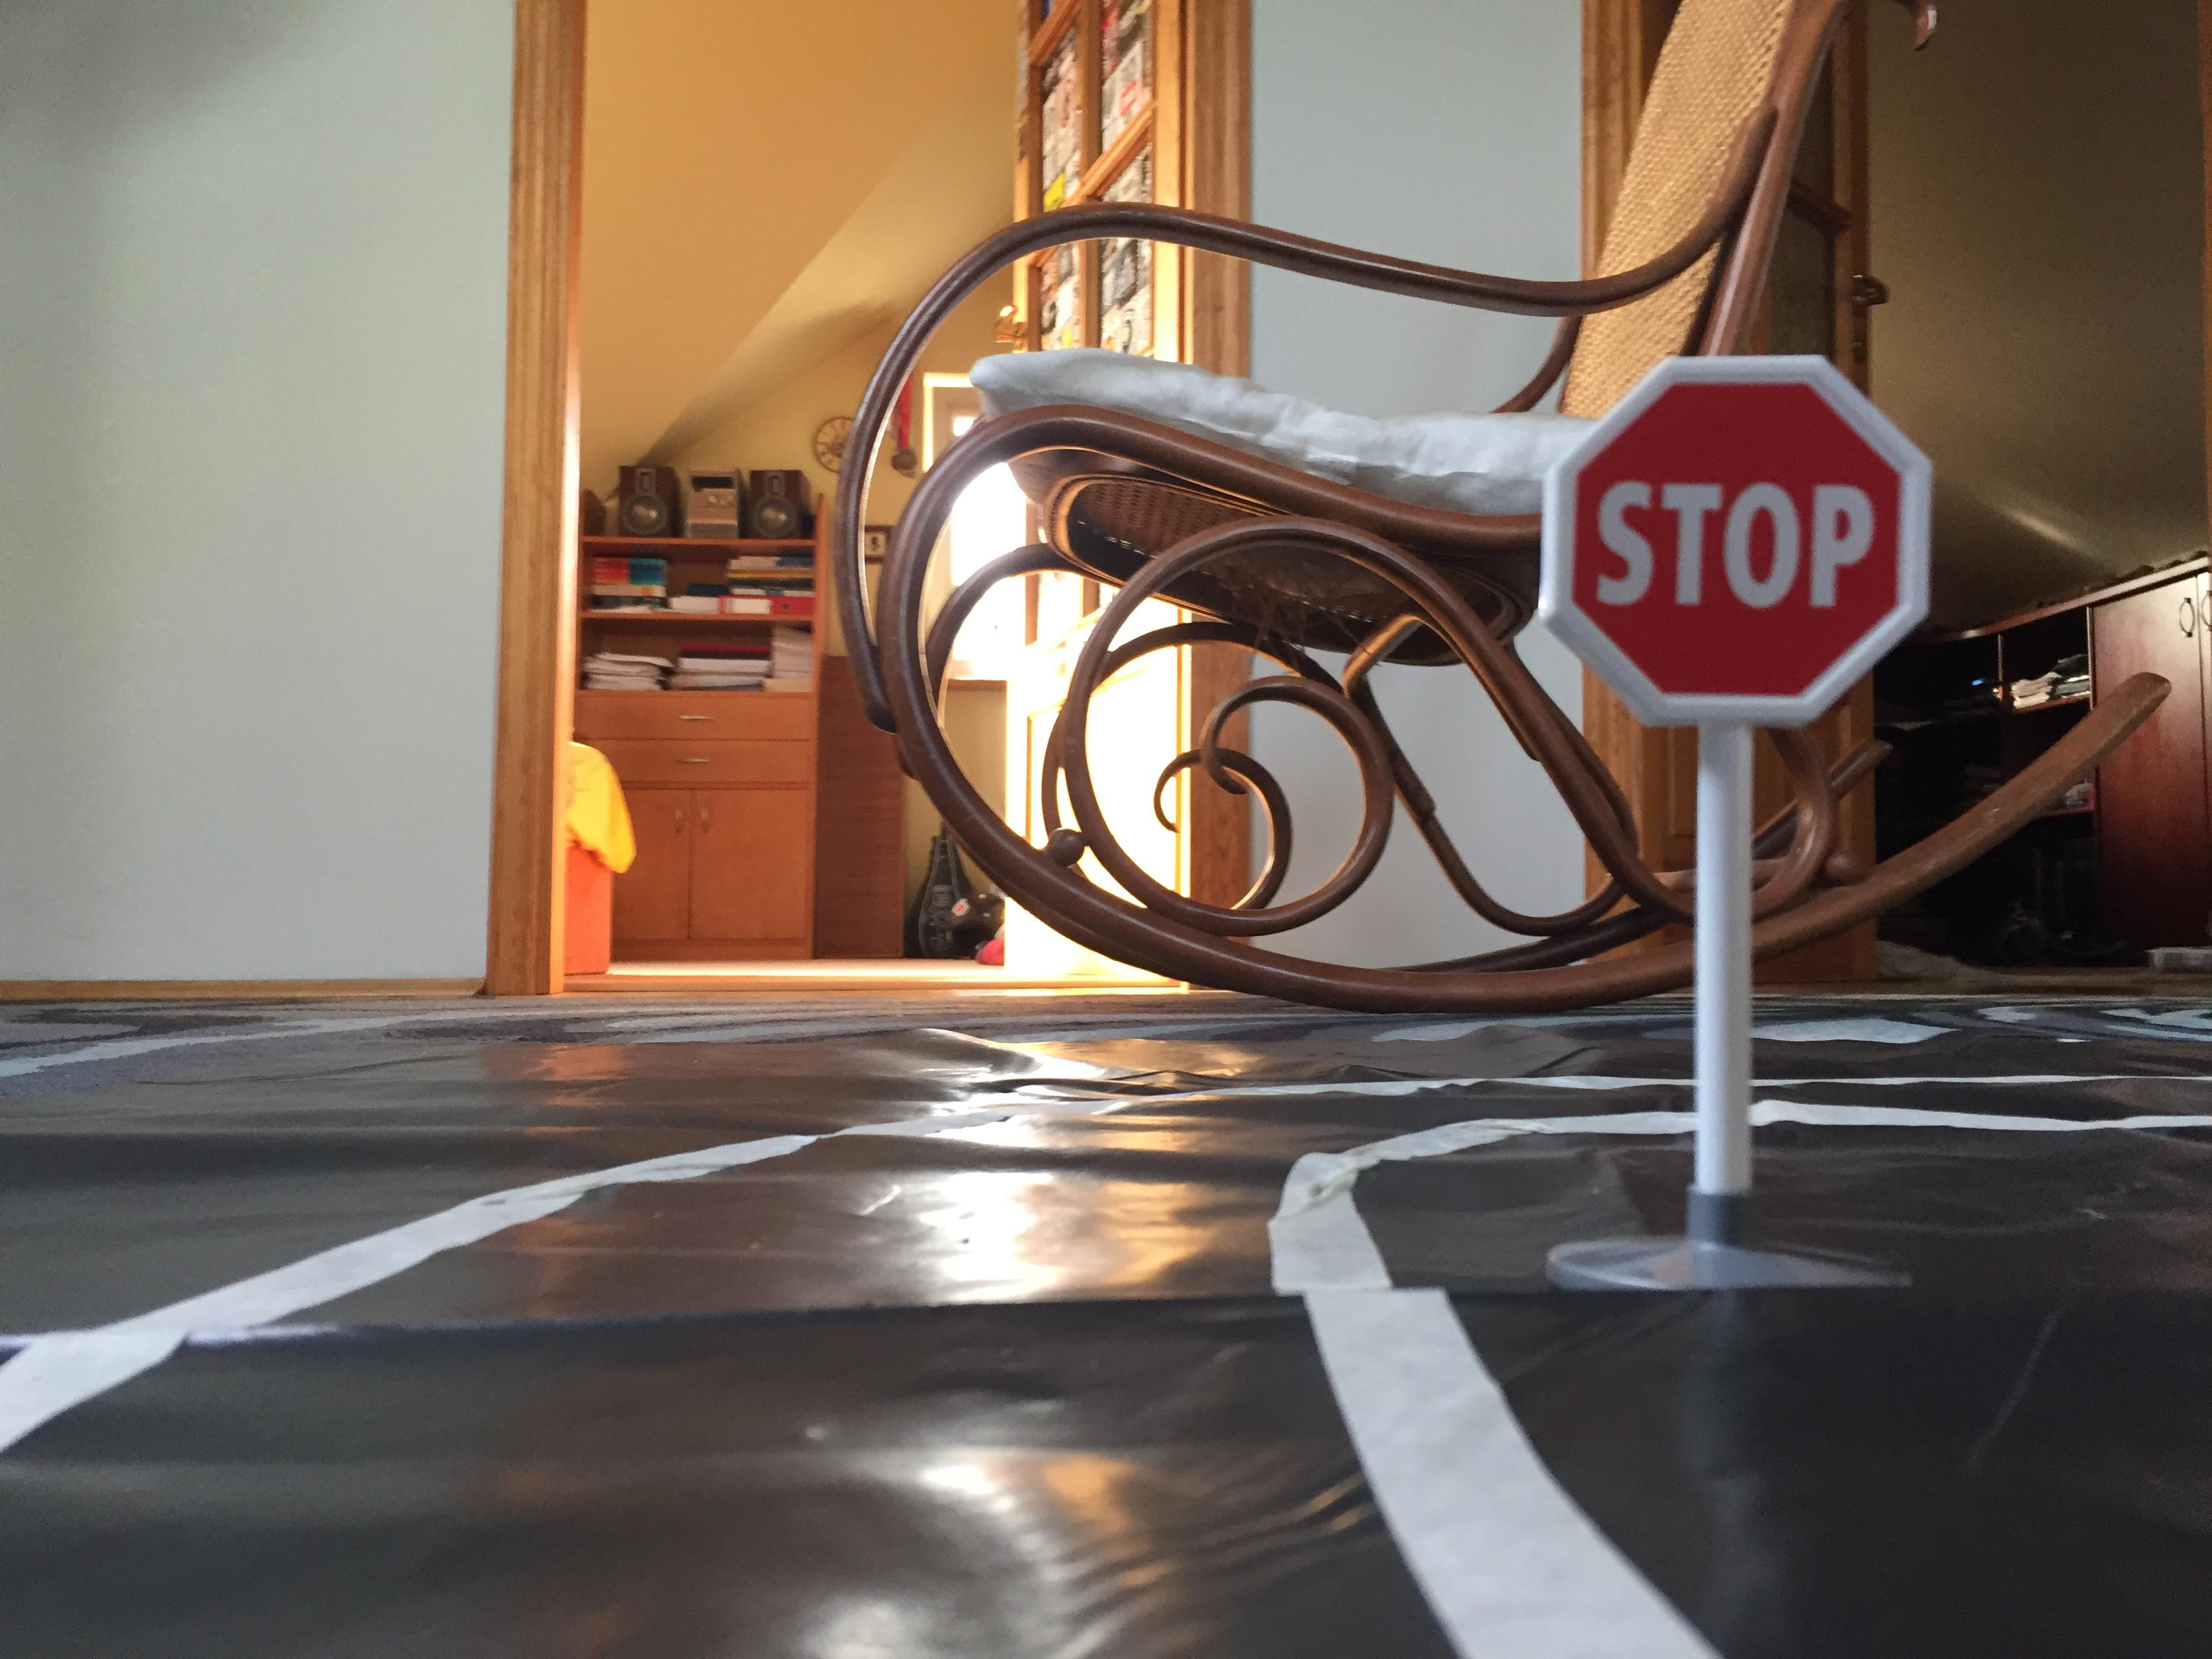stop: (1531, 345, 1952, 741)
